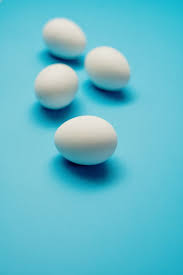eggs: (56, 114, 117, 161), (80, 41, 132, 89), (42, 15, 87, 59), (31, 62, 79, 102)
